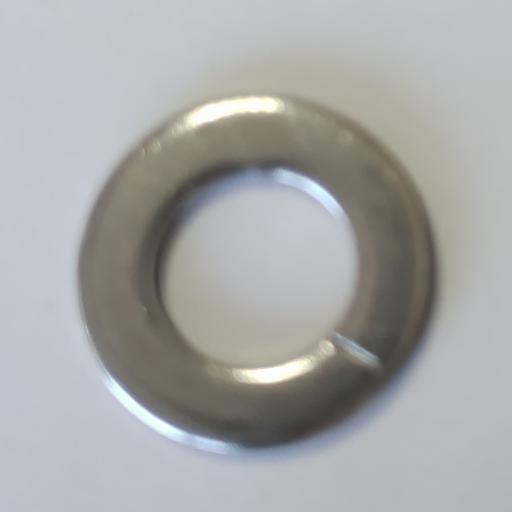scratch: (333, 332, 381, 368)
